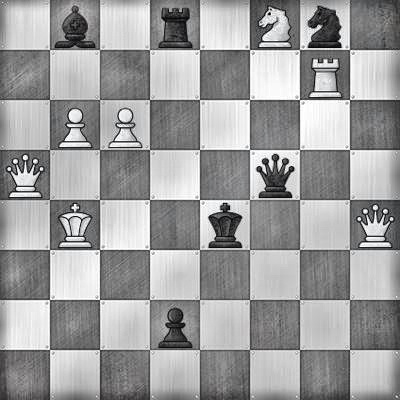black-bishop: (50, 0, 100, 50)
black-king: (200, 200, 250, 250)
black-knight: (300, 0, 350, 50)
black-pawn: (150, 300, 200, 350)
black-queen: (250, 150, 300, 200)
black-rook: (150, 0, 200, 50)
white-king: (50, 200, 100, 250)
white-knight: (250, 0, 300, 50)
white-pawn: (50, 100, 100, 150), (100, 100, 150, 150)
white-queen: (0, 150, 50, 200), (350, 200, 400, 250)
white-rook: (300, 50, 350, 100)
